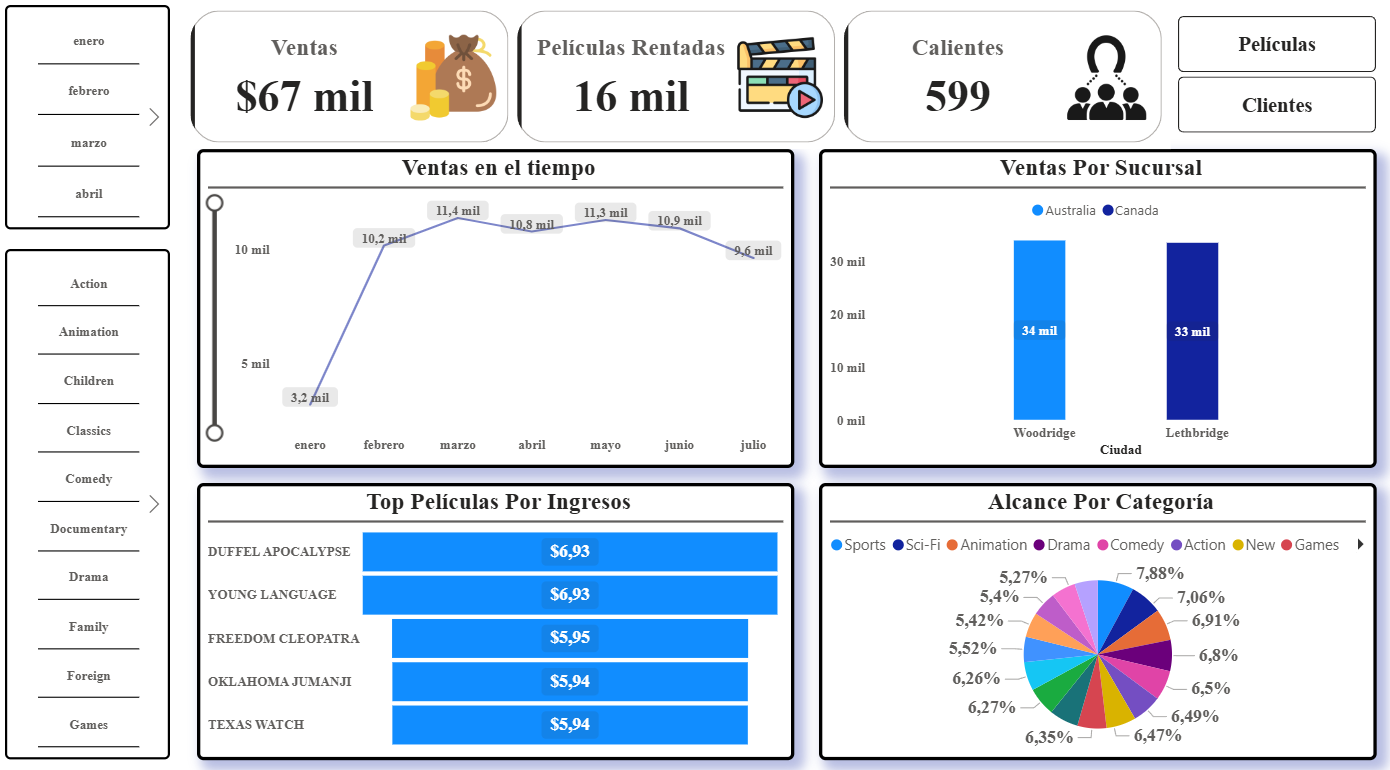

What the dashboard file says about the page in this screenshot:
{"tool":"powerbi","page":{"name":"Visión General","canvas":[1280,720],"ordinal":0},"visuals":[{"type":"slicer","fields":{"Values":["Dimension_Fecha.date_key.Variación.Jerarquía de fechas.Mes"]},"box":[9.9,6.3,150.4,204.2],"z":0},{"type":"slicer","fields":{"Values":["Dimension_Peliculas.category"]},"box":[9.9,228.4,150.4,463.9],"z":1000},{"type":"lineChart","title":"Ventas en el tiempo","fields":{"Category":["Dimension_Fecha.date_key.Variación.Jerarquía de fechas.Mes"],"Y":["Sum(TblHechos_Ventas.amount)"]},"box":[184.5,137,542.7,290.1],"z":2000},{"type":"ribbonChart","title":"Ventas Por Sucursal","fields":{"Series":["Dimension_Tiendas.country"],"Y":["Sum(TblHechos_Ventas.amount)"],"Category":["Dimension_Tiendas.city"]},"box":[749.6,137,506.9,290.1],"z":3000},{"type":"cardVisual","fields":{"Data":["Sum(TblHechos_Ventas.amount)","Count(TblHechos_Ventas.payment_id)","Medidas.Calientes - Cantidad"]},"box":[173.7,6.3,895.5,130.7],"z":4000},{"type":"funnel","title":"Top Películas Por Ingresos","fields":{"Category":["Dimension_Peliculas.title"],"Y":["Sum(TblHechos_Ventas.amount)"]},"box":[184.5,440.6,542.7,251.6],"z":5000},{"type":"pieChart","title":"Alcance Por Categoría","fields":{"Category":["Dimension_Peliculas.category"],"Y":["Sum(TblHechos_Ventas.amount)"]},"box":[750,441,507,252],"z":6000},{"type":"pageNavigator","box":[1076.4,16.1,180,107.5],"z":7000}]}

Visuals, with their boxes in screenshot pixels (x1, y1, x2, y2), scaled from the page's 1280x720 canvas onto the 1390x770 screenshot:
slicer - Dimension_Fecha.date_key.Variación.Jerarquía de fechas.Mes: [11,7,174,225]
slicer - Dimension_Peliculas.category: [11,244,174,740]
"Ventas en el tiempo" lineChart: [200,147,790,457]
"Ventas Por Sucursal" ribbonChart: [814,147,1364,457]
cardVisual - Sum(TblHechos_Ventas.amount) x Count(TblHechos_Ventas.payment_id): [189,7,1161,147]
"Top Películas Por Ingresos" funnel: [200,471,790,740]
"Alcance Por Categoría" pieChart: [814,472,1365,741]
pageNavigator: [1169,17,1364,132]
